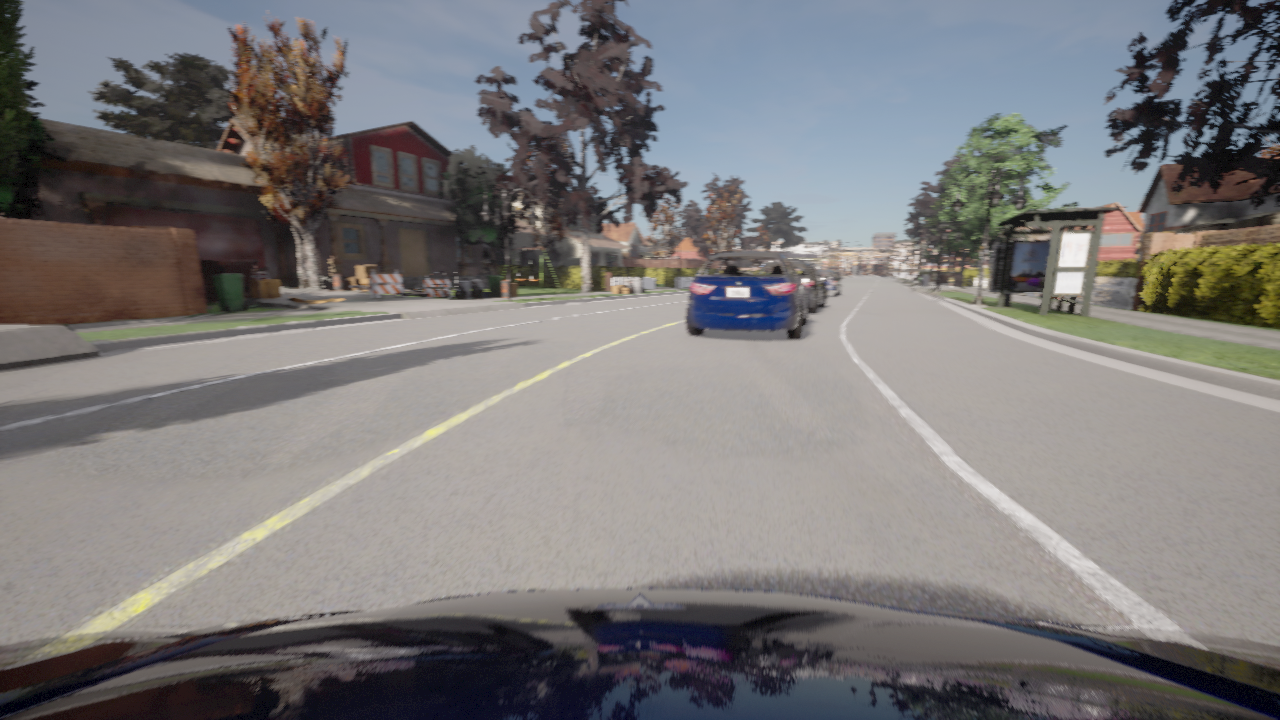cyclist: (0, 588, 1279, 719), (686, 251, 810, 339), (792, 262, 826, 313), (816, 270, 841, 296)
pedestrian: (949, 276, 952, 287)
